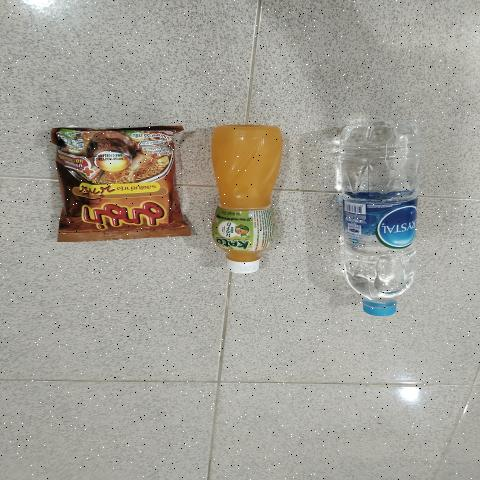crystal: (344, 130, 414, 318)
mama: (71, 134, 170, 237)
